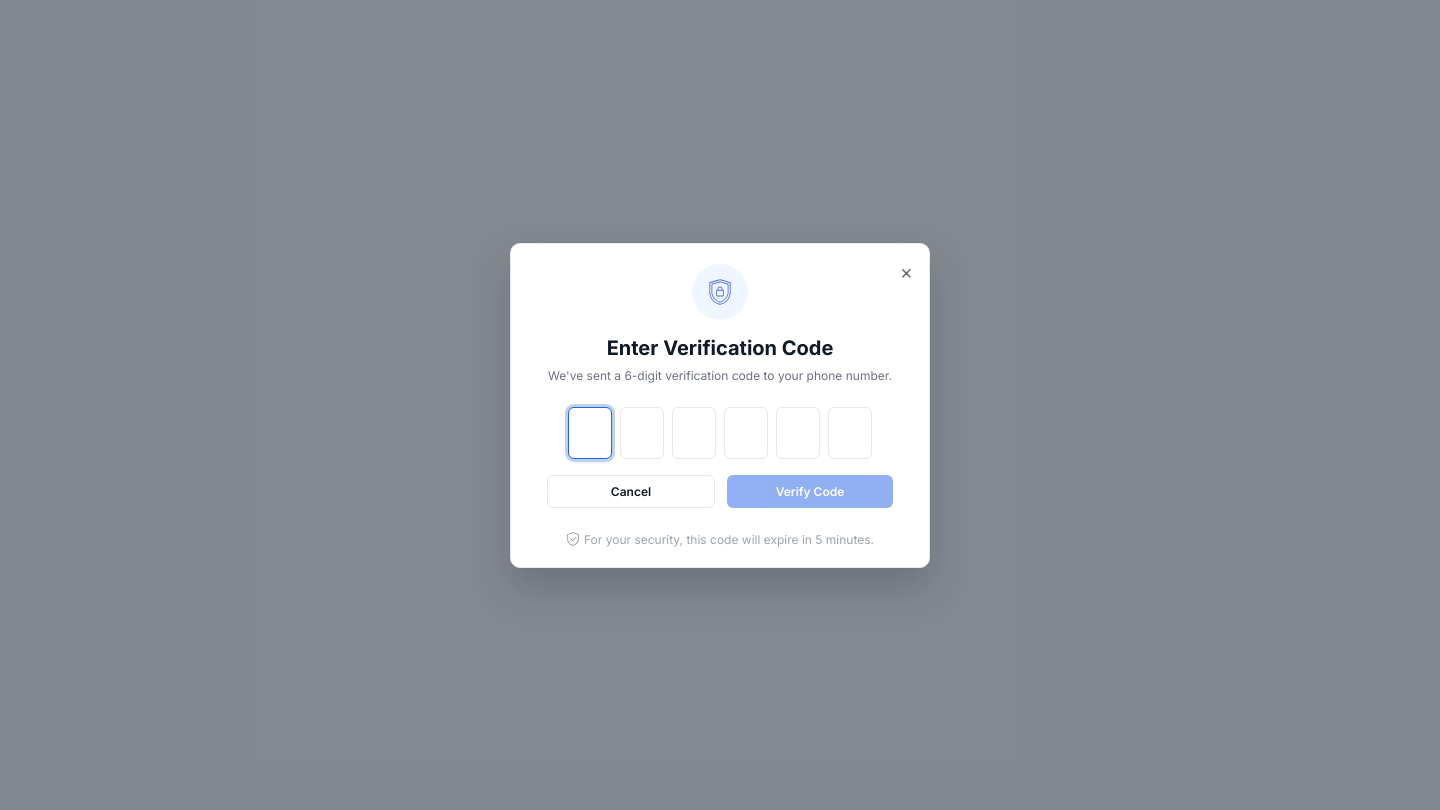
Test: CodeModal › on a wrong code, shows the backend's own feedback + attempts remaining, then clears and refocuses
In the 1st field: coordinates (590, 432) [568,406,612,458], type "9"
In the 2nd field: coordinates (642, 432) [620,406,664,458], type "9"
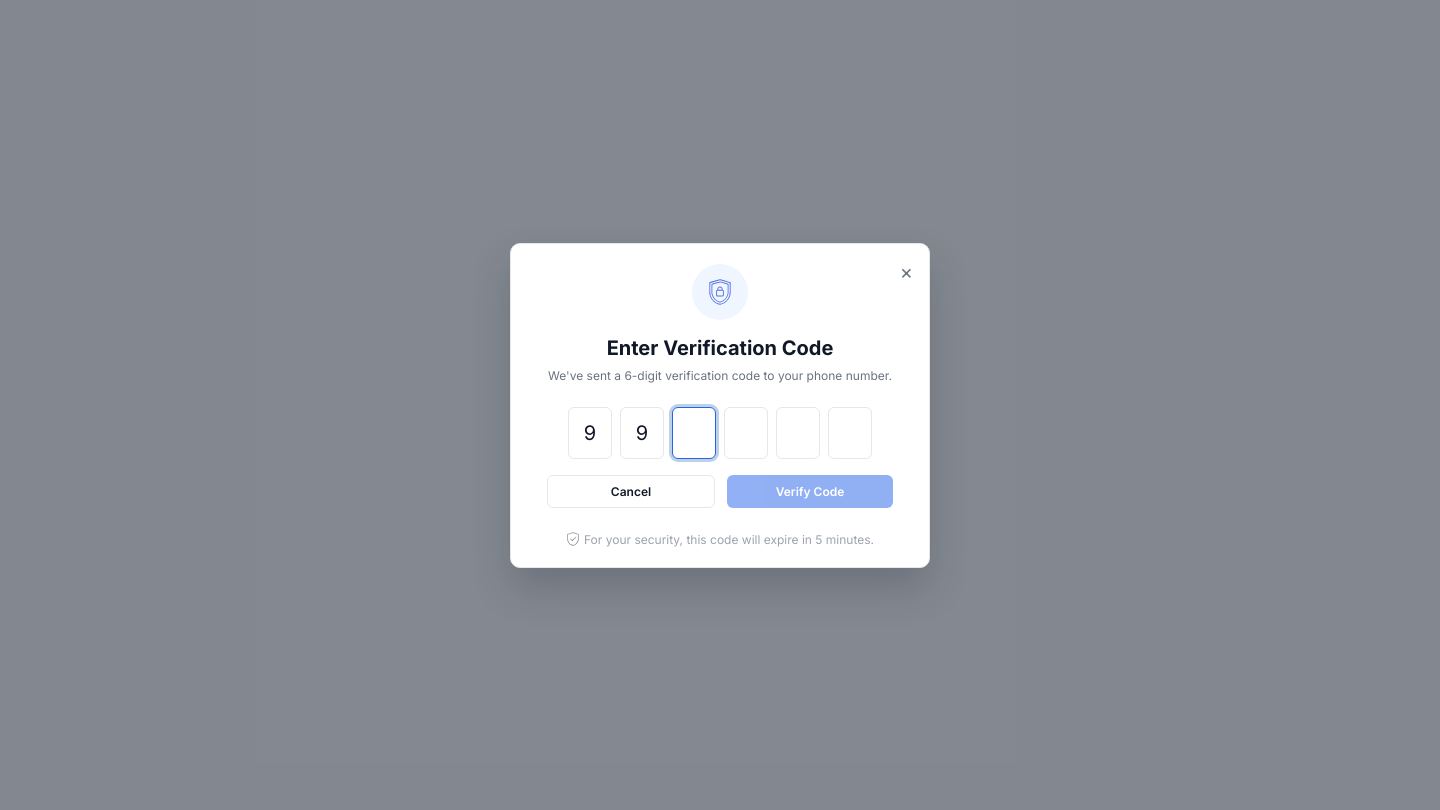
In the 3rd field: coordinates (694, 432) [672,406,716,458], type "9"
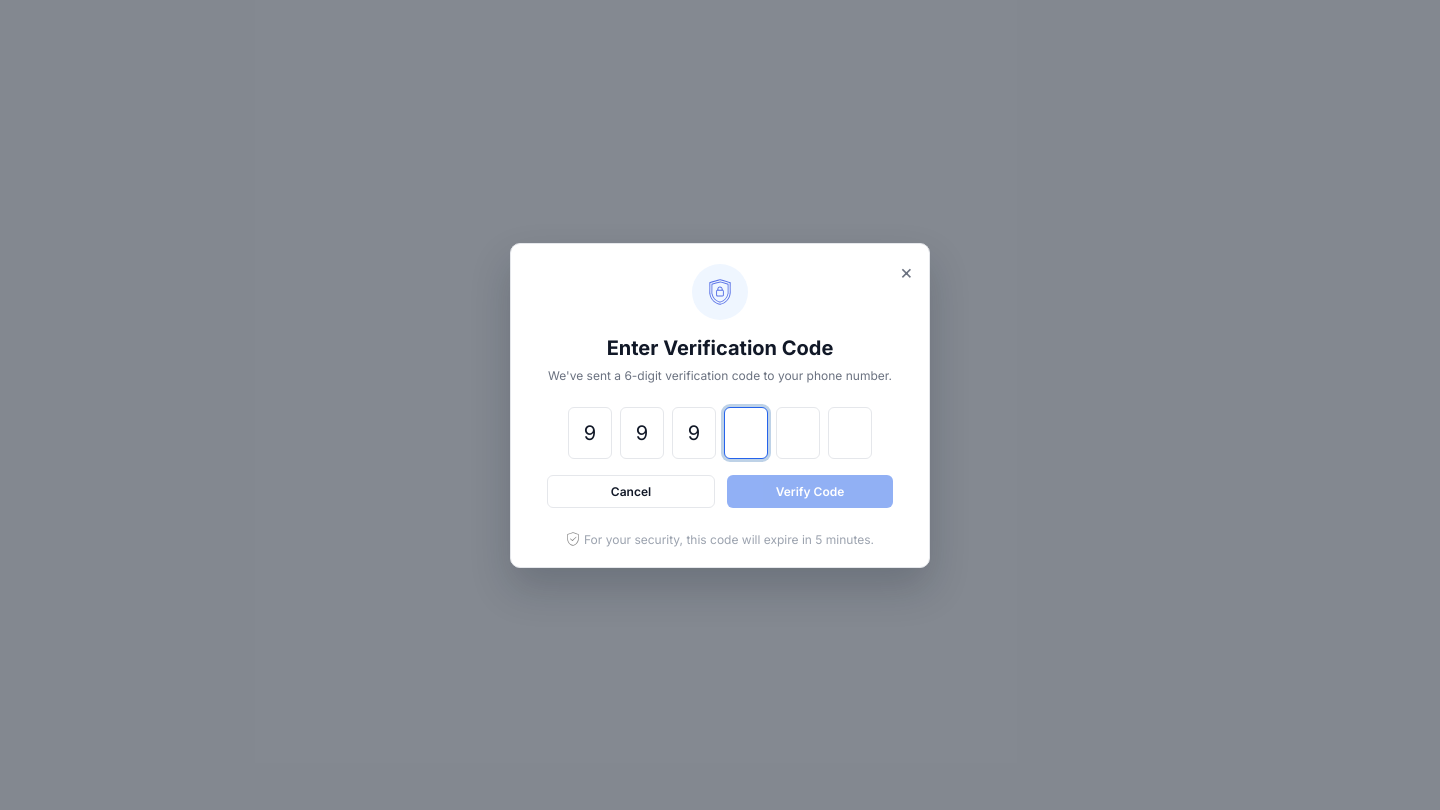
In the 4th field: coordinates (746, 432) [724,406,768,458], type "9"
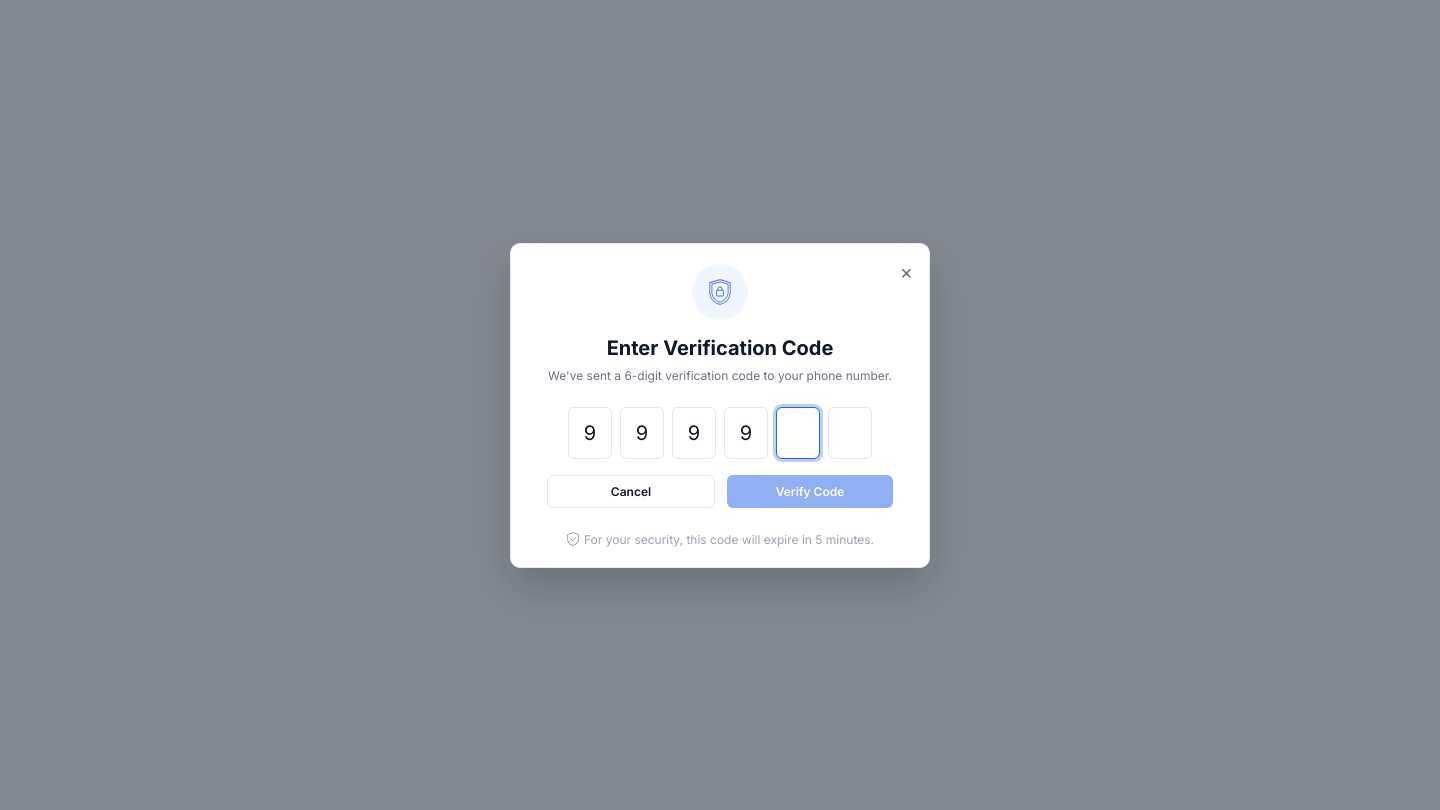
In the 5th field: coordinates (798, 432) [776,406,820,458], type "9"
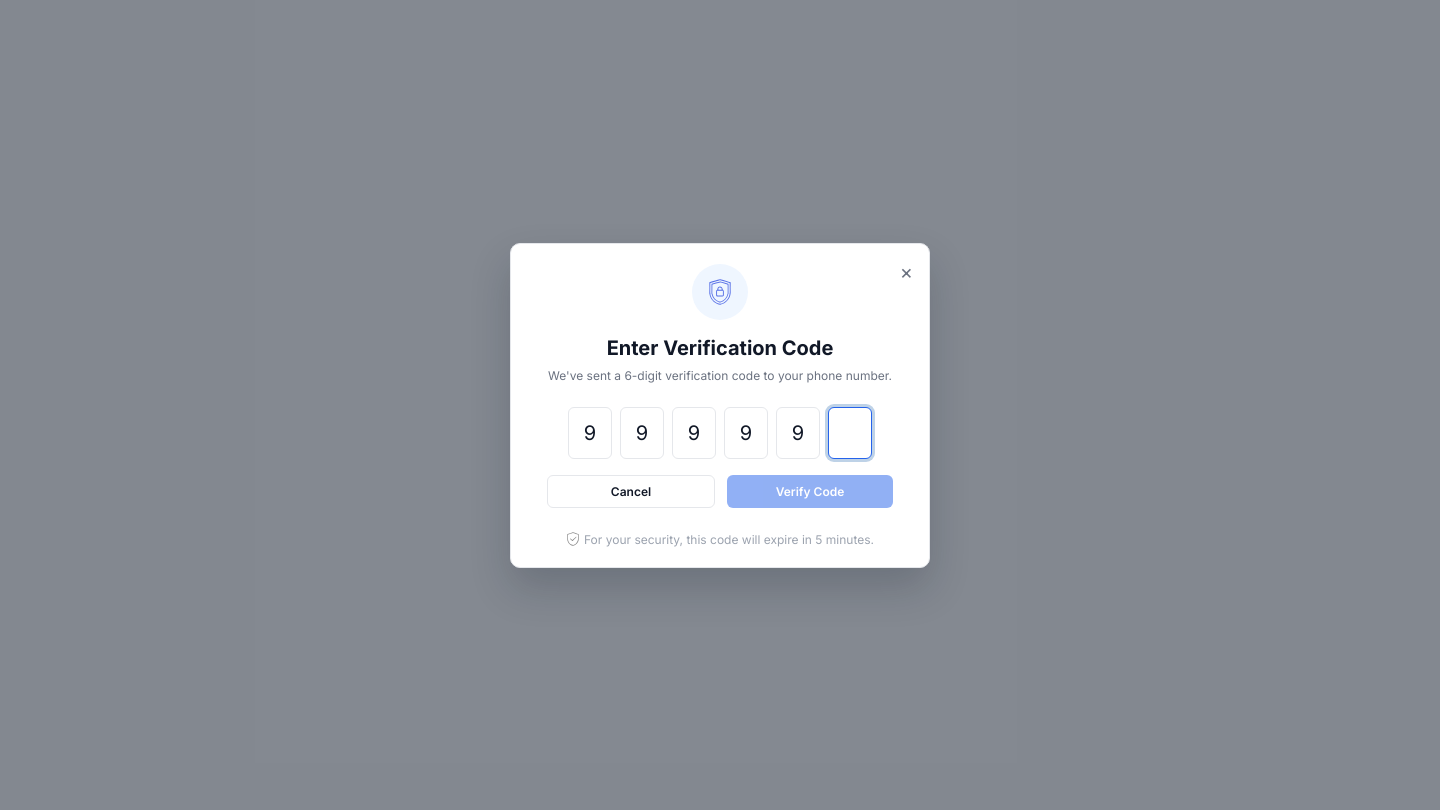
In the 6th field: coordinates (850, 432) [828,406,872,458], type "9"
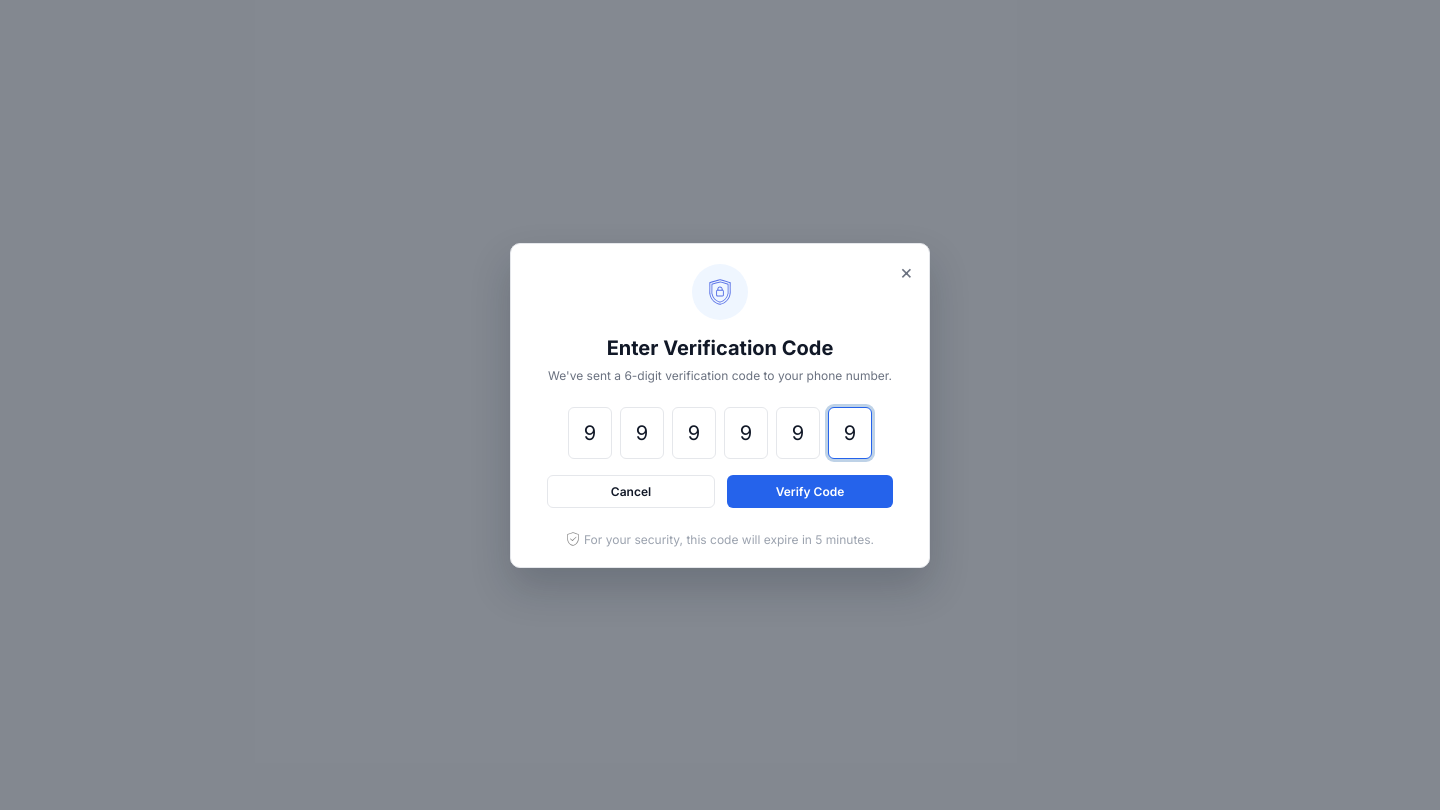
Click the button "Verify Code": coordinates (810, 491) [727,474,893,508]
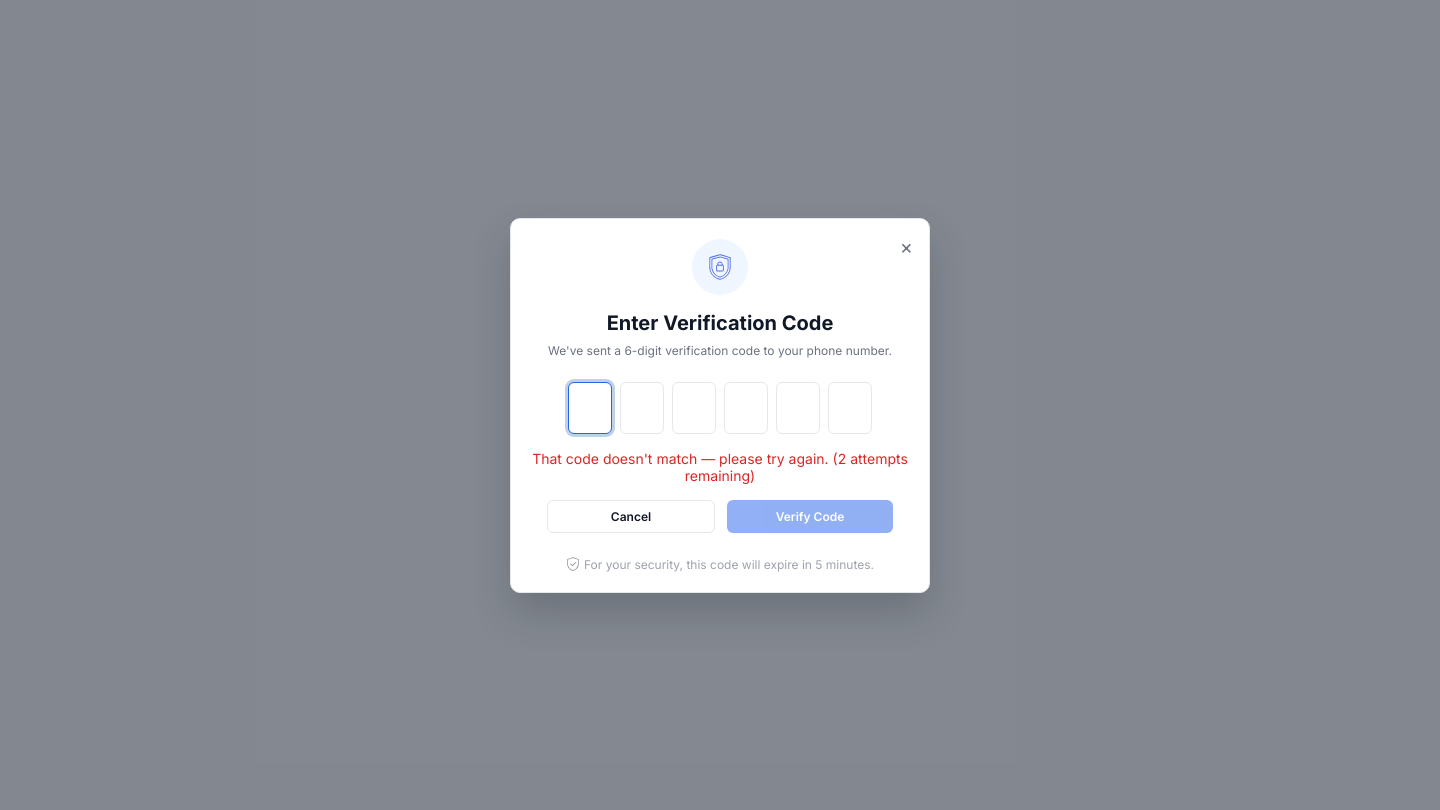
Expected: the dialog is shown, [510,218,930,592]
Result: the text "That code doesn't match" is shown at [532,450,829,466]
Result: the text "2 attempts remaining" is shown at [685,450,908,484]
